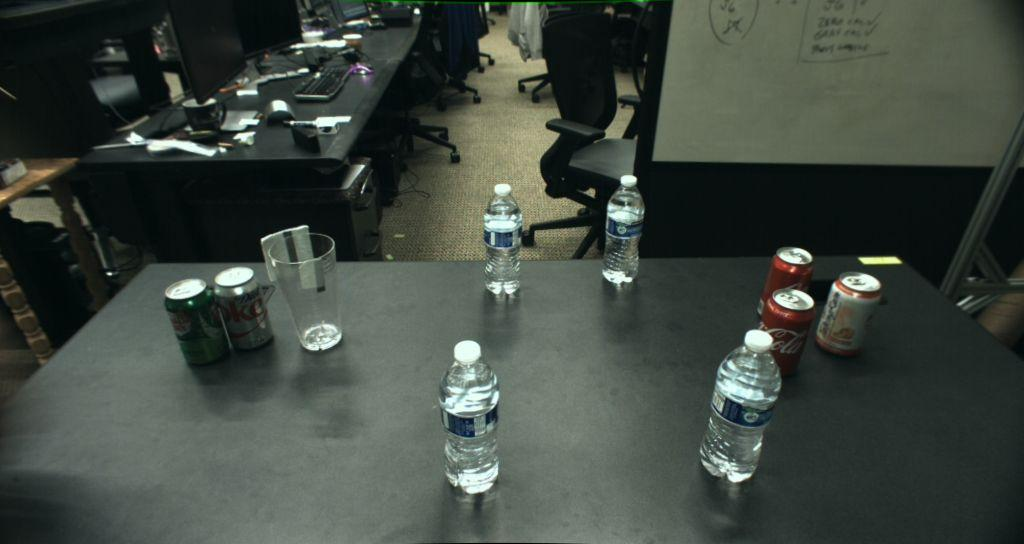can_diet_coke: (213, 265, 274, 352)
can_ginger_ale: (164, 278, 231, 366)
can_talking_rain_peach_nectarine: (817, 270, 882, 358)
water_bottle: (699, 330, 780, 482), (439, 340, 499, 494), (601, 175, 644, 283), (484, 183, 522, 294)
